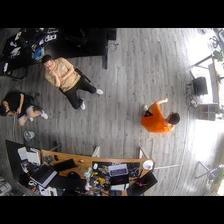normal: (42, 55, 103, 111), (1, 89, 48, 126), (138, 95, 180, 134)
